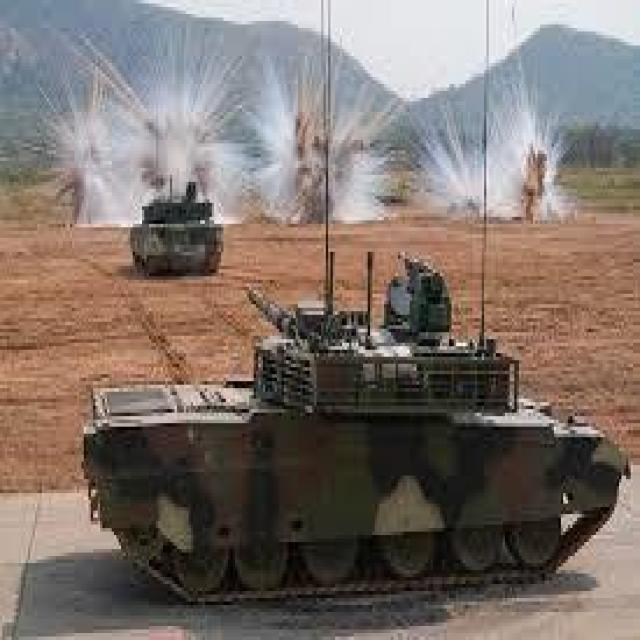MIL_MBT: (87, 308, 627, 598), (130, 187, 221, 282)
